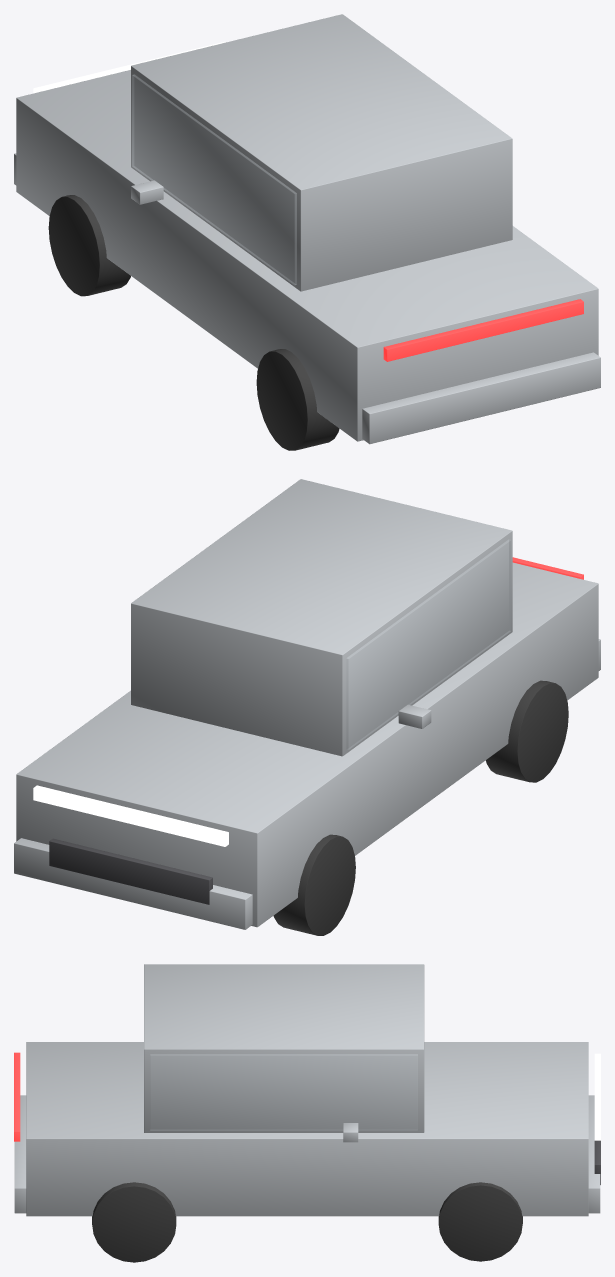
Rendered from vehicle.glb.
The picture shows the model from 3 angles, top to bottom: view 1: azimuth 30°, elevation 25°; view 2: azimuth 150°, elevation 25°; view 3: azimuth 270°, elevation 25°; orthographic projection. The views are drawn at different scales.
Visible parts, largest first — view 1: BODY_Roof, BODY_Main, GLASS_Greenhouse, BODY_Bumpers_Rear, WHEEL_RR_Tire, WHEEL_FR_Tire, LIGHT_Taillights, LIGHT_Headlights, BODY_Mirror_R; view 2: BODY_Roof, BODY_Main, GLASS_Greenhouse, BODY_Bumpers_Front, WHEEL_RR_Tire, WHEEL_FR_Tire, BODY_Grille, LIGHT_Headlights, BODY_Mirror_R; view 3: BODY_Main, BODY_Roof, GLASS_Greenhouse, WHEEL_RL_Tire, WHEEL_FL_Tire, BODY_Bumpers_Rear, BODY_Bumpers_Front, LIGHT_Taillights, LIGHT_Headlights.
Boxes of the visible parts, x1,y1,x2,y2 form: BODY_Roof: (131,14,512,291); BODY_Main: (16,70,598,441); GLASS_Greenhouse: (132,74,296,285); BODY_Bumpers_Rear: (362,352,600,444); WHEEL_RR_Tire: (256,349,339,450); WHEEL_FR_Tire: (48,195,130,296); LIGHT_Taillights: (383,299,583,361); LIGHT_Headlights: (33,41,225,93); BODY_Mirror_R: (131,180,163,204); BODY_Roof: (131,479,512,756); BODY_Main: (16,562,598,927); GLASS_Greenhouse: (346,539,511,750); BODY_Bumpers_Front: (14,838,252,929); WHEEL_RR_Tire: (486,680,568,782); WHEEL_FR_Tire: (273,834,355,935); BODY_Grille: (49,838,212,904); LIGHT_Headlights: (33,785,228,846); BODY_Mirror_R: (398,704,431,728); BODY_Main: (26,1042,588,1216); BODY_Roof: (144,964,424,1132); GLASS_Greenhouse: (150,1054,417,1130); WHEEL_RL_Tire: (92,1182,176,1262); WHEEL_FL_Tire: (438,1182,522,1261); BODY_Bumpers_Rear: (14,1095,26,1213); BODY_Bumpers_Front: (588,1095,600,1213); LIGHT_Taillights: (14,1052,20,1141); LIGHT_Headlights: (594,1053,600,1140).
Size of the model in its own units: 2.2 by 1.78 by 4.66.
